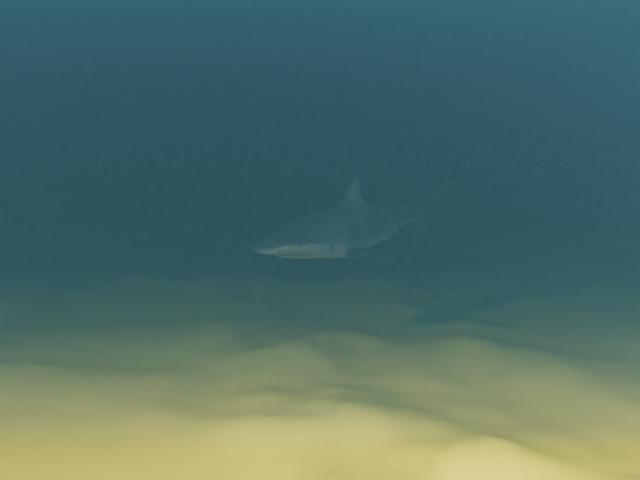Carribean Shark.001: (254, 171, 468, 267)
